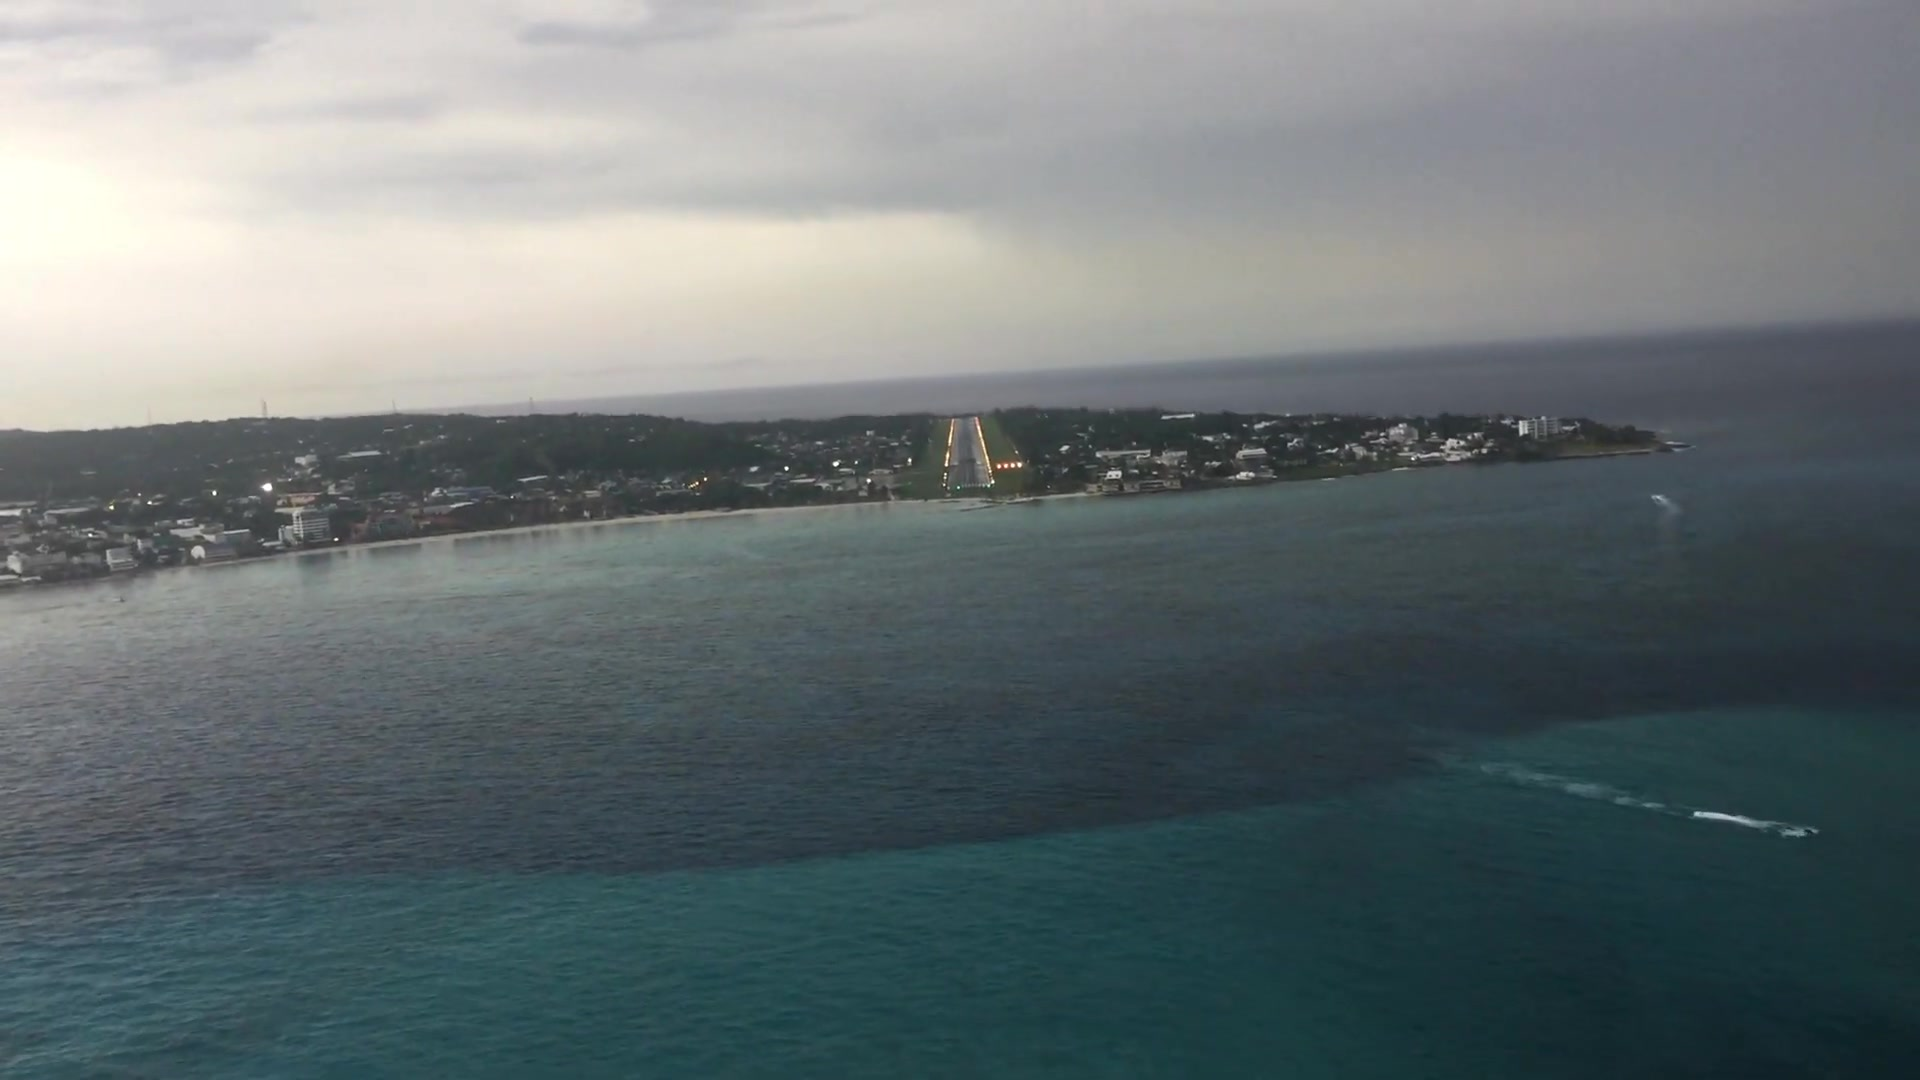runway: (940, 415, 994, 493)
